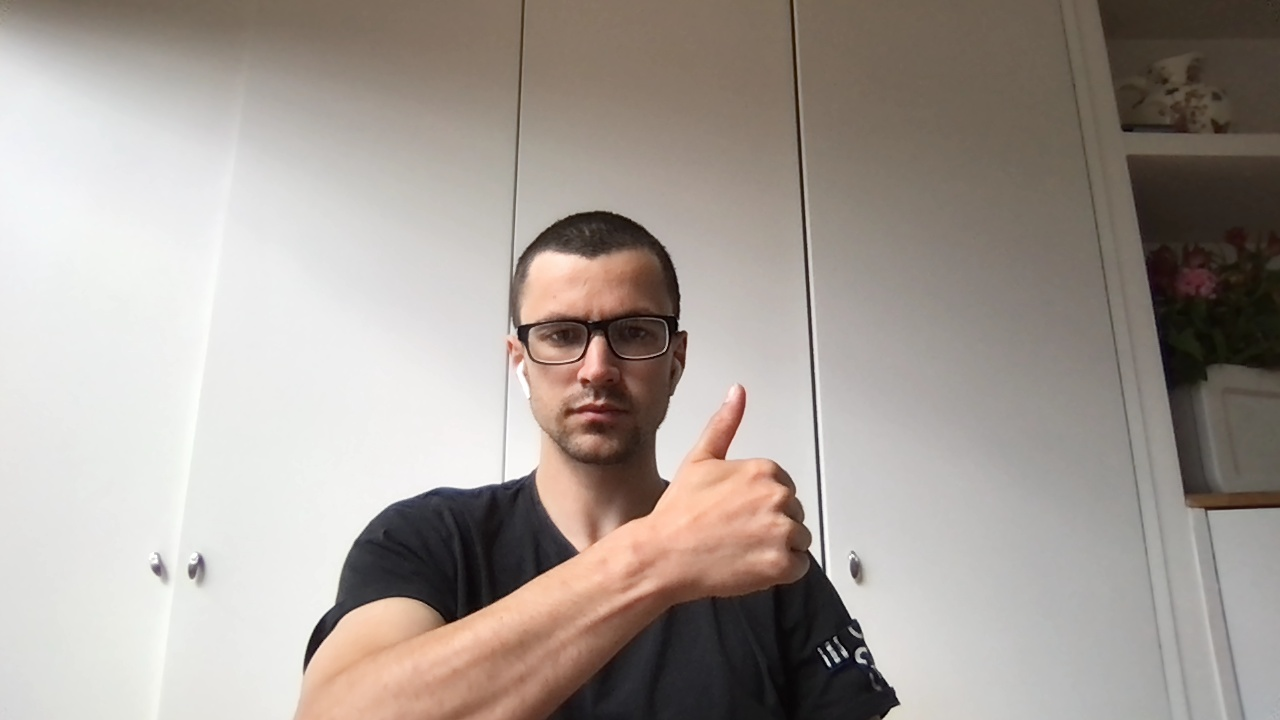thumbUp: (657, 383, 812, 601)
